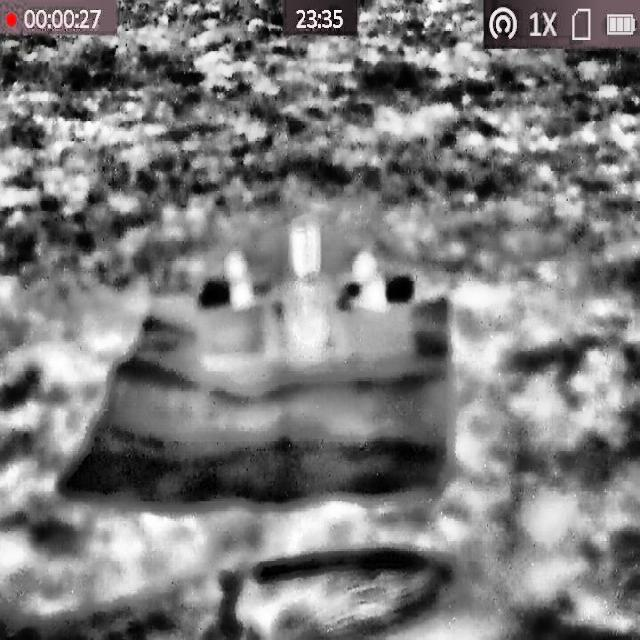drone: (226, 220, 392, 368)
